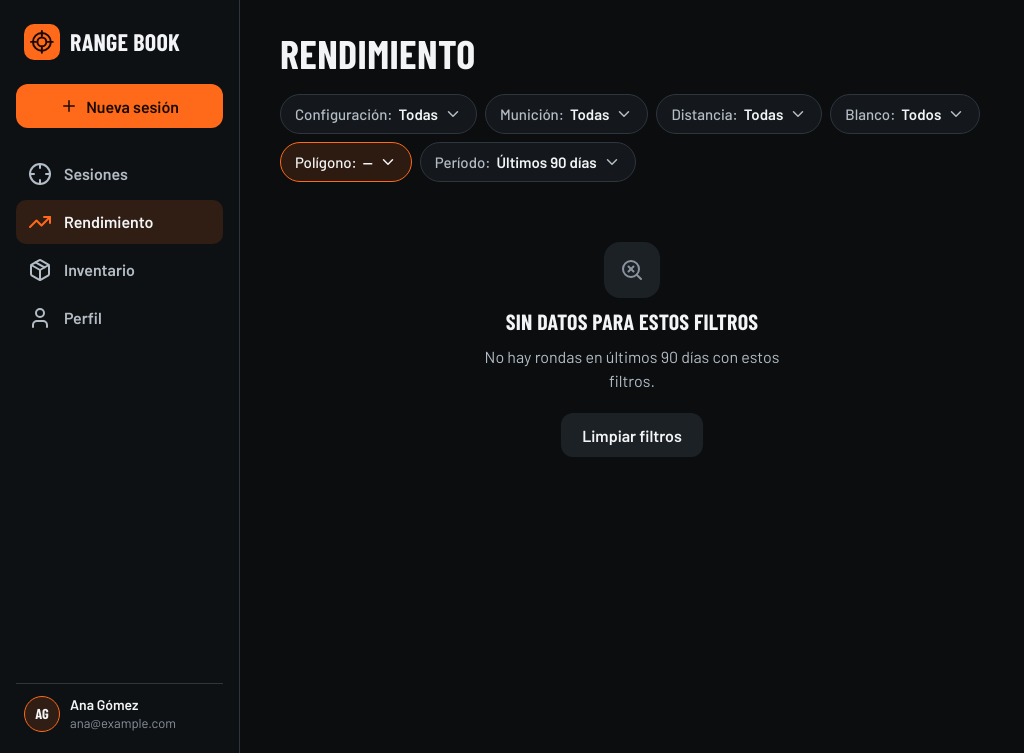
Scenario: PerformanceScreen › sin datos para los filtros, "Limpiar filtros" vuelve a los de por defecto
The width and height of the screenshot is (1024, 753).
Check: the heading "Sin datos para estos filtros" is shown, box [506,310,758,333]
What coordinates should you click on to do the following:
click the button "Limpiar filtros"
I would click on:
 (632, 435)
Its box is [561,413,703,457].
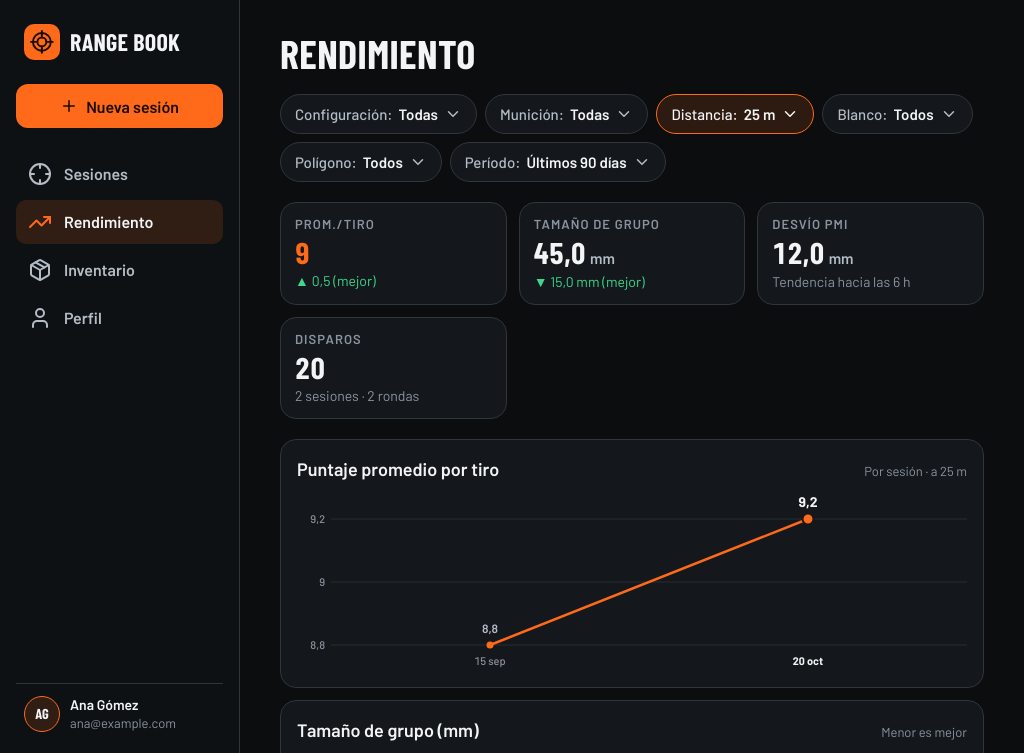
Check: the element named "Indicadores" is shown, box [280,202,984,419]
